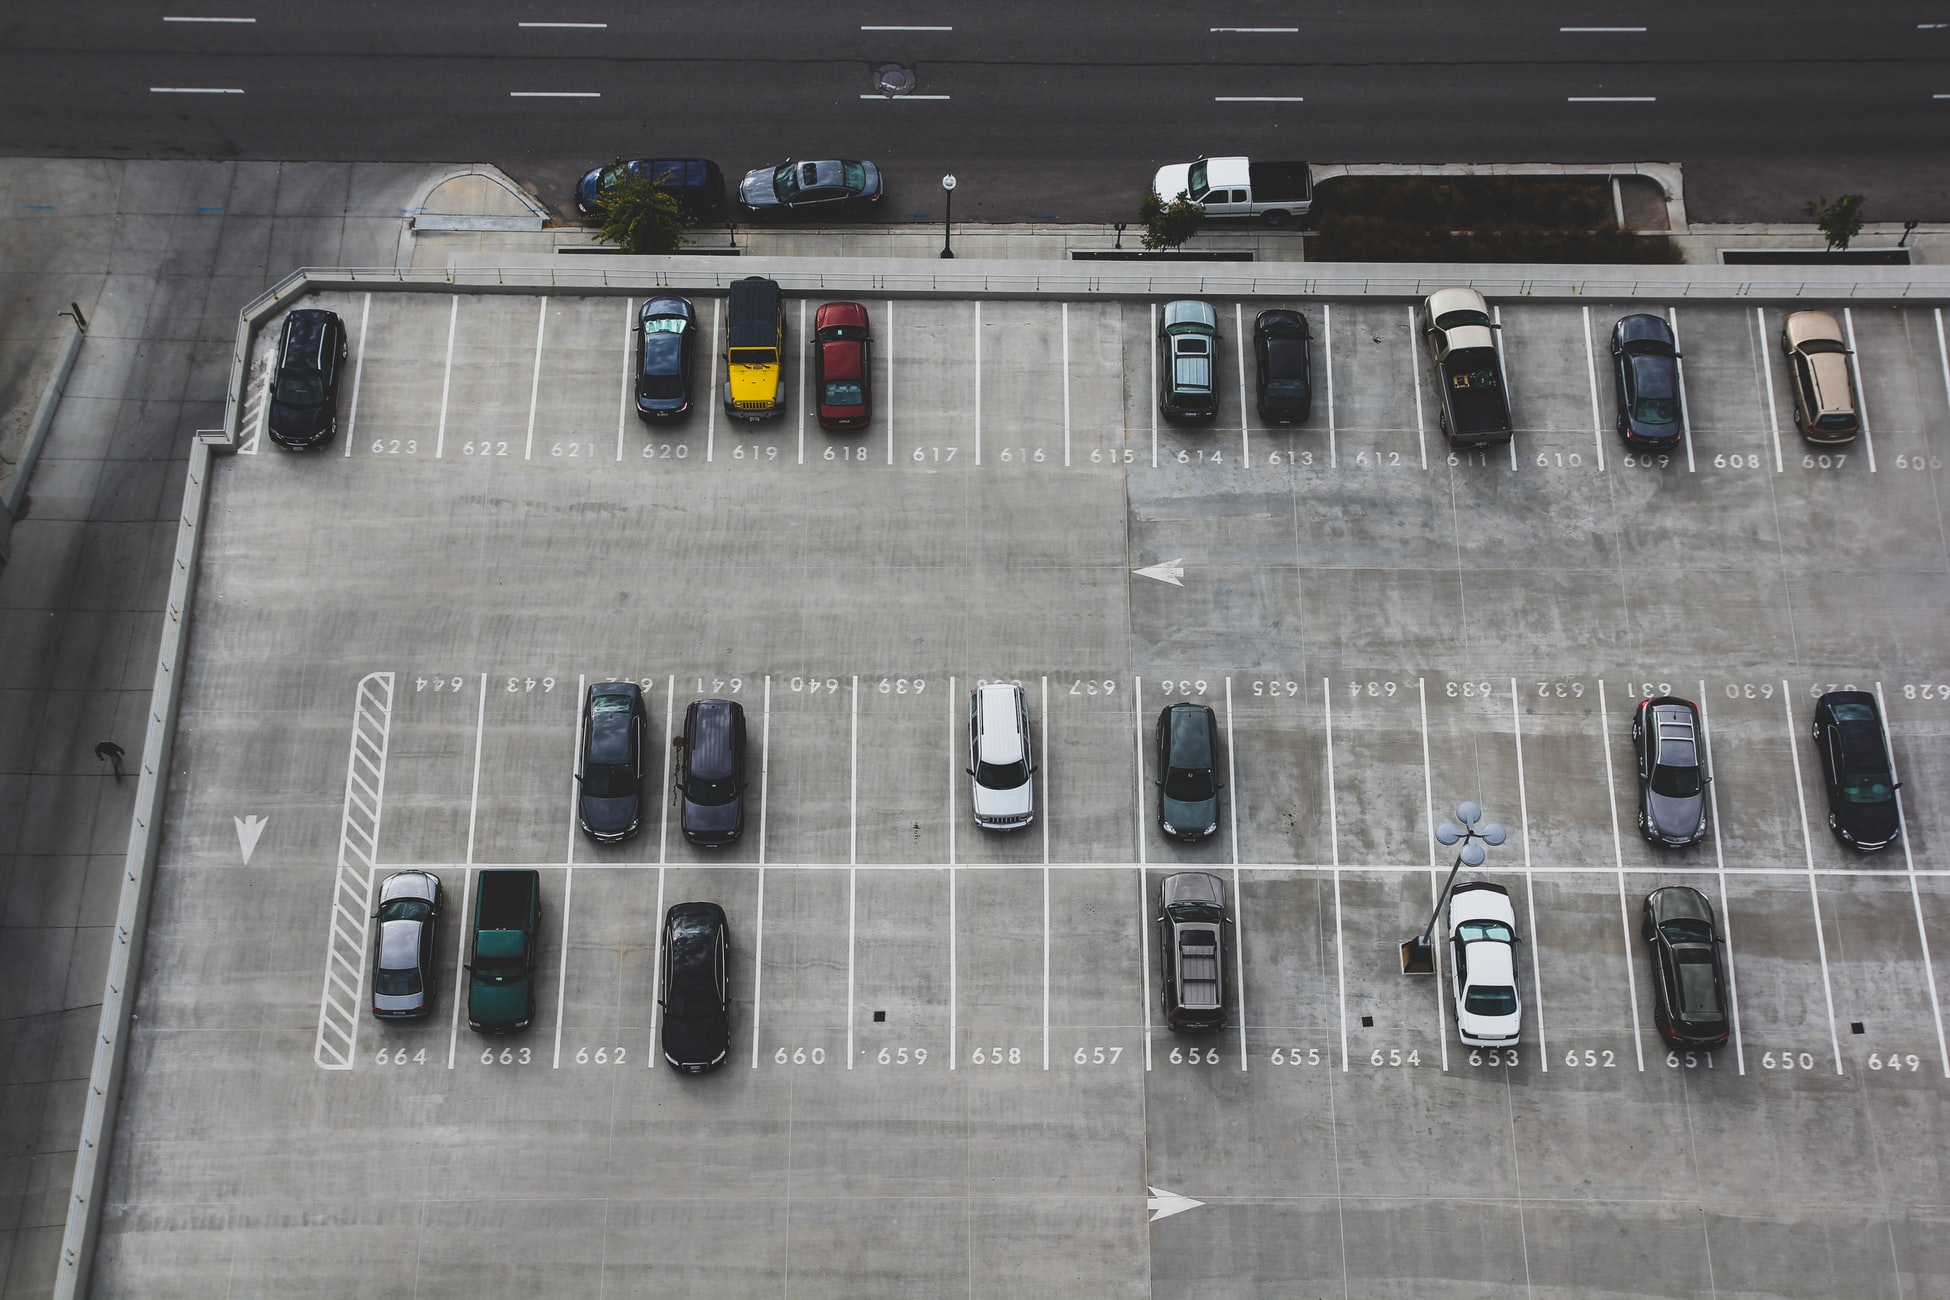car: (1629, 879, 1737, 1058), (1418, 281, 1519, 456), (1809, 688, 1912, 857), (653, 894, 741, 1082), (1149, 871, 1243, 1046), (1438, 879, 1531, 1048), (666, 691, 759, 852), (1606, 302, 1695, 469), (1634, 685, 1716, 863), (1772, 300, 1864, 457), (959, 675, 1046, 836), (569, 669, 649, 844), (1146, 147, 1315, 229), (360, 868, 445, 1029), (268, 300, 353, 457), (1146, 696, 1230, 853), (466, 862, 538, 1042), (630, 281, 707, 444), (720, 266, 794, 431), (1152, 289, 1227, 443), (723, 151, 882, 222), (572, 154, 728, 225), (807, 287, 876, 441), (1249, 300, 1319, 440)
